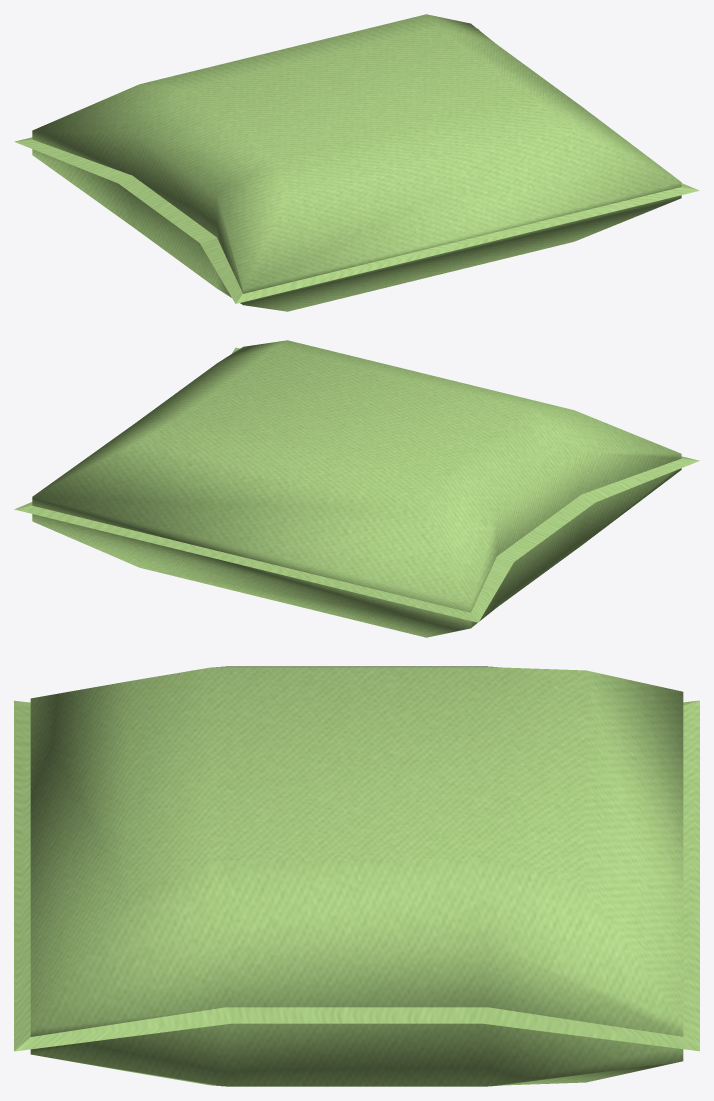
Rendered from T_Pillow_Q2.FBX.
3 renders of one model, top to bottom at view 1: azimuth 30°, elevation 25°; view 2: azimuth 150°, elevation 25°; view 3: azimuth 270°, elevation 25°, orthographic. The views are drawn at different scales.
Visible parts, largest first — view 1: Throw_Pillow; view 2: Throw_Pillow; view 3: Throw_Pillow.
Part boxes in pixels (x1,y1,x2,y2): Throw_Pillow: [14, 14, 699, 311]; Throw_Pillow: [14, 340, 699, 637]; Throw_Pillow: [14, 666, 699, 1086].
Size of the model in its own units: 127 by 37.95 by 105.
